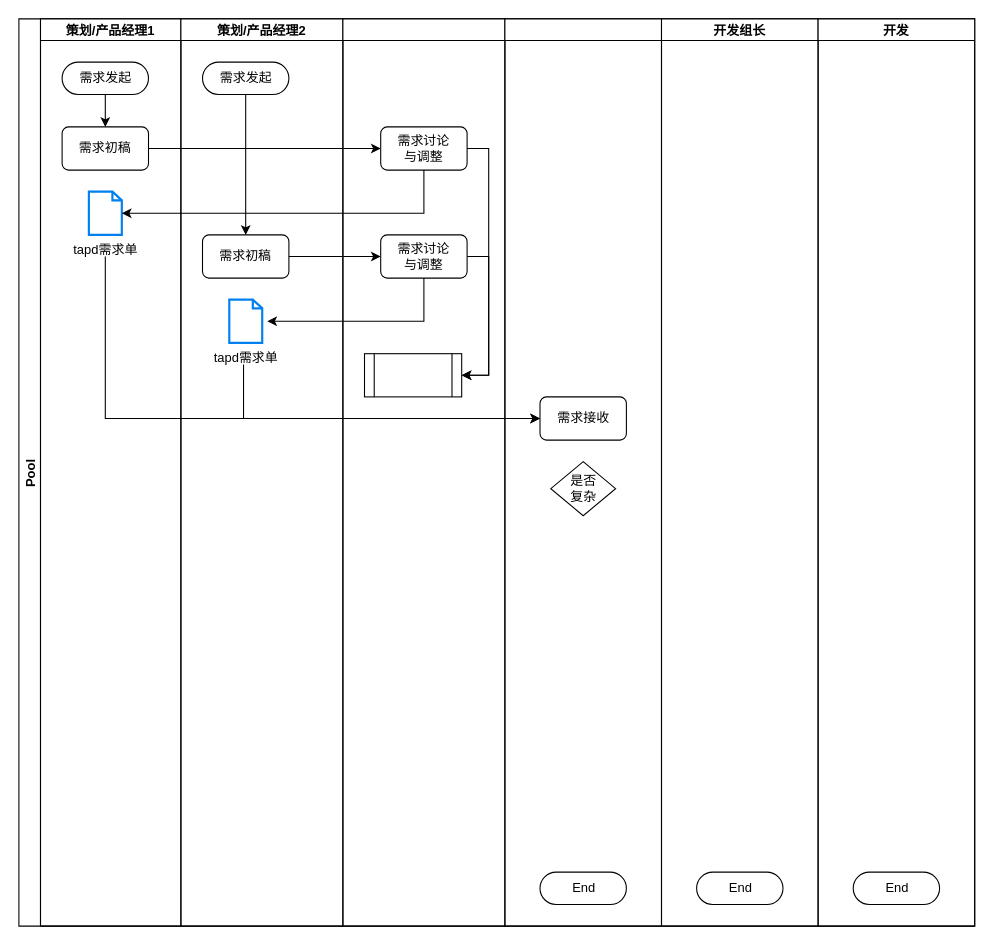
Some shapes in this 994 by 945 pixel diagram are drawn without their labels. Here are the shapes that lost their labels. From the top down, the box of each, then its label:
(363, 353, 462, 397): 确认优先级
(342, 18, 505, 926): 产品负责人
(504, 18, 662, 926): PM
